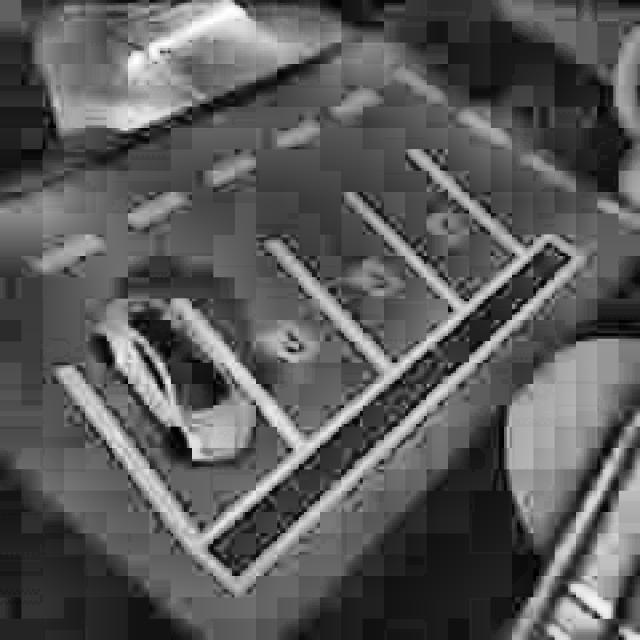car: (80, 281, 264, 478)
